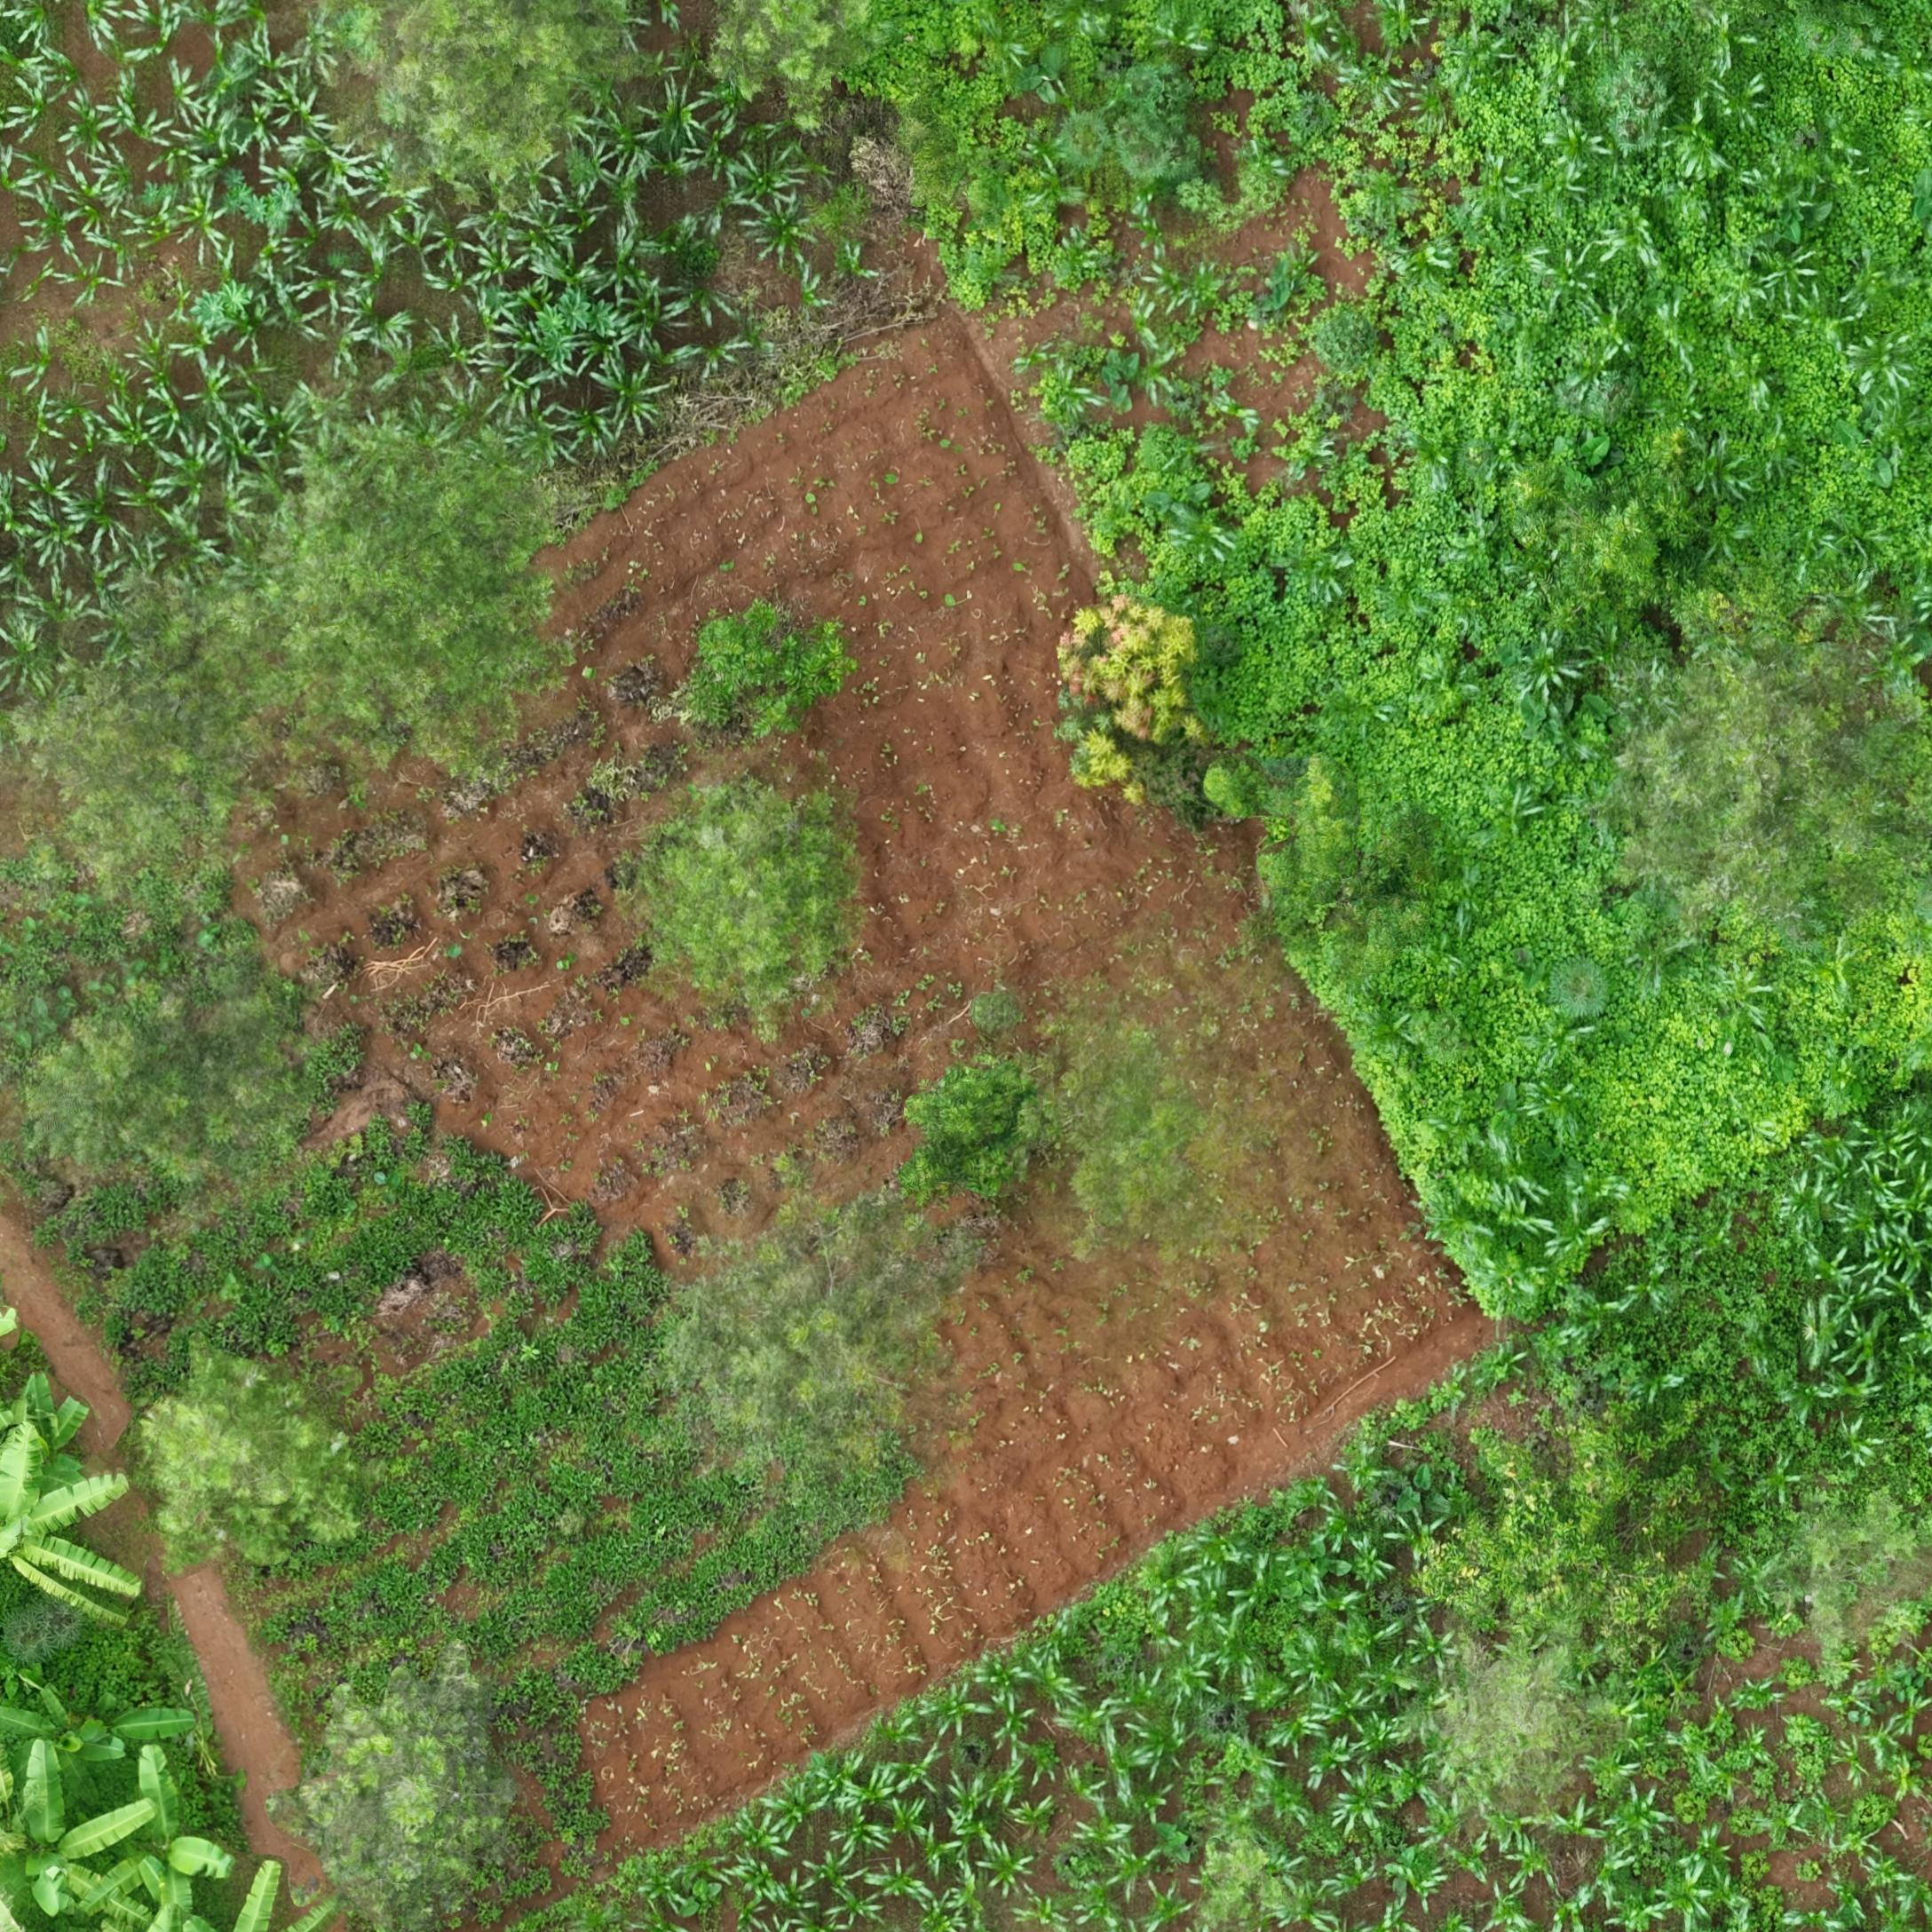Banana: (18, 1764, 113, 1849), (18, 1847, 104, 1932)
